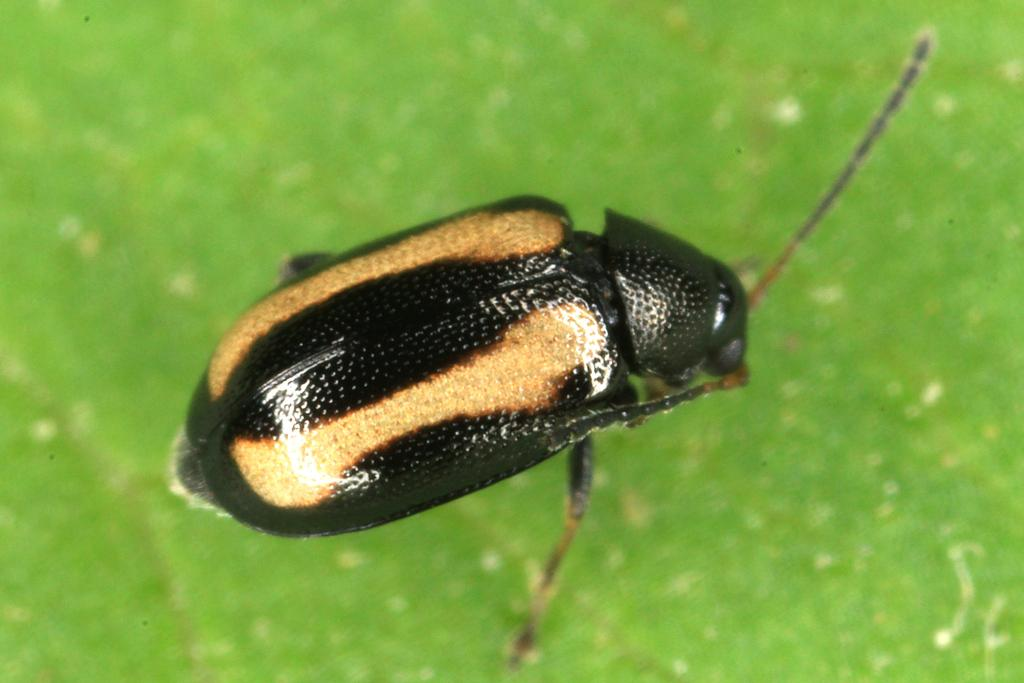flea_beetle: (111, 0, 982, 683)
